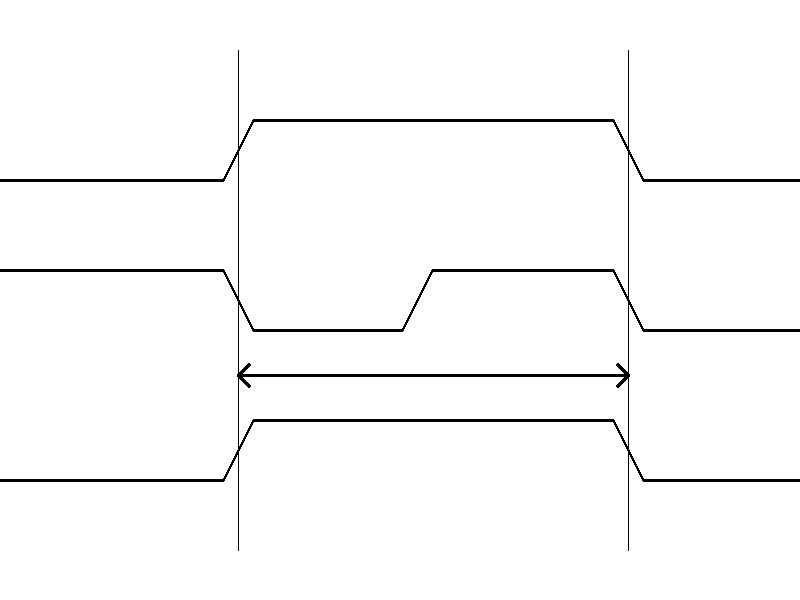double_arrow: (238, 360, 628, 390)
